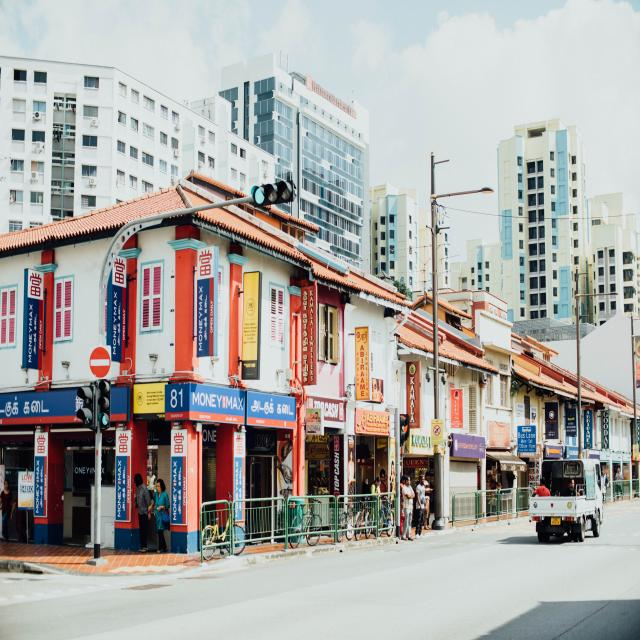Street Light: (430, 173, 494, 529), (574, 290, 619, 492)
